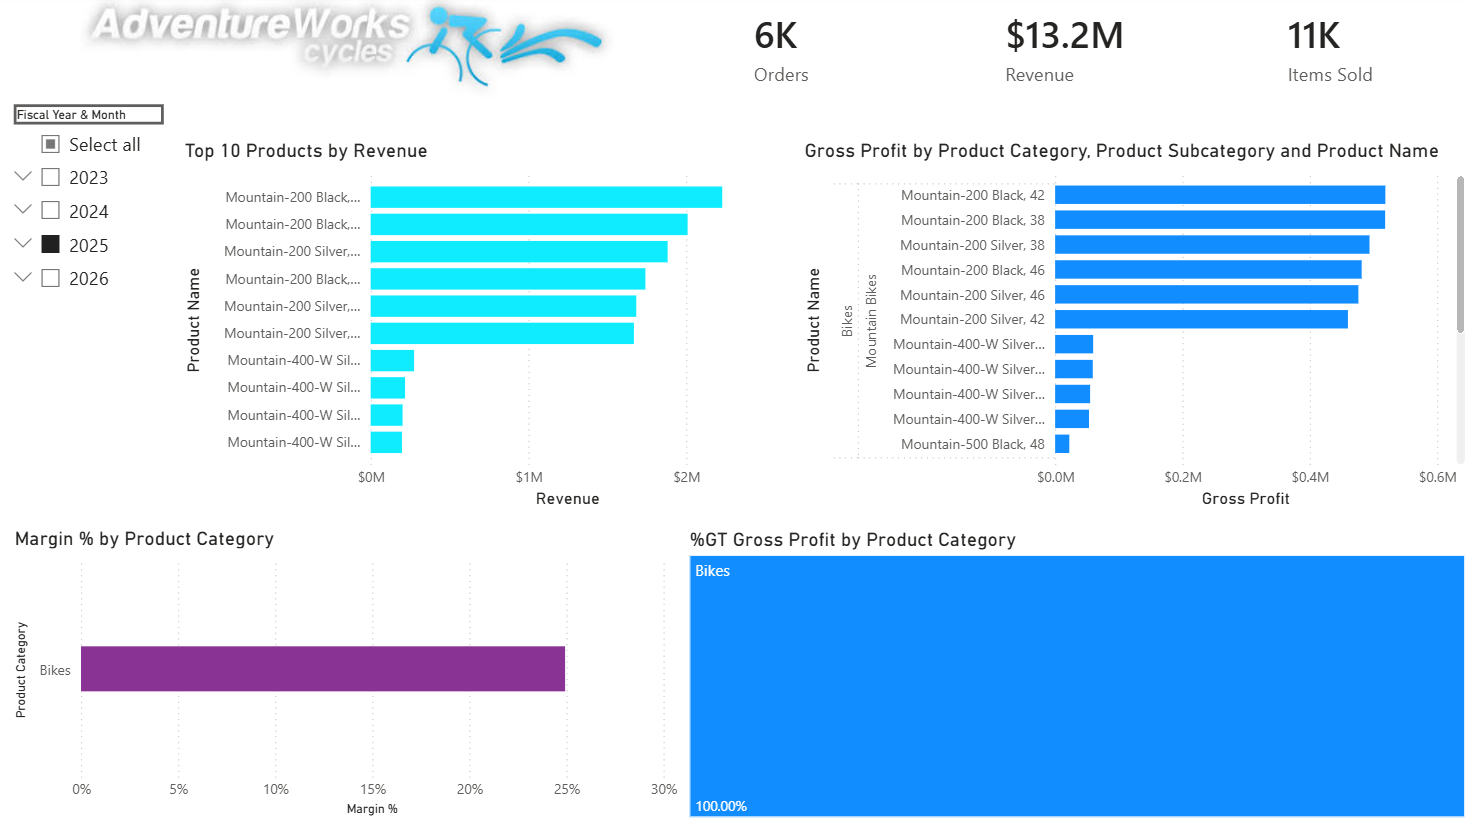

The dashboard page shown, as its layout file describes it:
{"tool":"powerbi","page":{"name":"Product Profitability (Top 10)","canvas":[1280,720],"ordinal":2},"visuals":[{"type":"image","box":[8.9,0,586.8,90.4],"z":0},{"type":"cardVisual","fields":{"Data":["Order Items.Orders"]},"box":[629.8,0,133.4,90.4],"z":1000},{"type":"cardVisual","fields":{"Data":["Order Items.Revenue"]},"box":[848.3,0,182.1,90.5],"z":2000},{"type":"cardVisual","fields":{"Data":["Order Items.Items Sold"]},"box":[1093.7,0,133.1,90.6],"z":3000},{"type":"clusteredBarChart","title":"Top 10 Products by Revenue","fields":{"Category":["Products.Product Name"],"Y":["Order Items.Revenue"]},"box":[156.7,125.4,526.5,326],"z":4000},{"type":"clusteredBarChart","fields":{"Category":["Products.Product Category Hierarchy.Product Category","Products.Product Category Hierarchy.Product Subcategory","Products.Product Category Hierarchy.Product Name"],"Y":["Order Items.Gross Profit"]},"box":[695.2,125.3,584.8,326.1],"z":5000},{"type":"treemap","fields":{"Group":["Products.Product Category Hierarchy.Product Category","Products.Product Category Hierarchy.Product Subcategory"],"Values":["Order Items.Gross Profit"]},"box":[595.5,462.3,684.8,257],"z":6000},{"type":"clusteredBarChart","fields":{"Y":["Order Items.Margin %"],"Category":["Products.Product Category Hierarchy.Product Category","Products.Product Category Hierarchy.Product Subcategory","Products.Product Category Hierarchy.Product Name"]},"box":[9,462,586,257],"z":7000},{"type":"slicer","fields":{"Values":["Calendar.Fiscal Year Hierarchy.Fiscal Year","Calendar.Fiscal Year Hierarchy.Fiscal Month"]},"box":[0,90.3,156.3,316.6],"z":8000}]}

Visuals, with their boxes in screenshot pixels (x1, y1, x2, y2), scaled from the page's 1280x720 canvas onto the 1467x820 screenshot:
image: 10 0 683 103
cardVisual - Order Items.Orders: 722 0 875 103
cardVisual - Order Items.Revenue: 972 0 1181 103
cardVisual - Order Items.Items Sold: 1253 0 1406 103
"Top 10 Products by Revenue" clusteredBarChart: 180 143 783 514
clusteredBarChart - Products.Product Category Hierarchy.Product Category x Products.Product Category Hierarchy.Product Subcategory: 797 143 1466 514
treemap - Products.Product Category Hierarchy.Product Category x Products.Product Category Hierarchy.Product Subcategory: 682 527 1466 819
clusteredBarChart - Order Items.Margin % x Products.Product Category Hierarchy.Product Category: 10 526 682 819
slicer - Calendar.Fiscal Year Hierarchy.Fiscal Year x Calendar.Fiscal Year Hierarchy.Fiscal Month: 0 103 179 463
